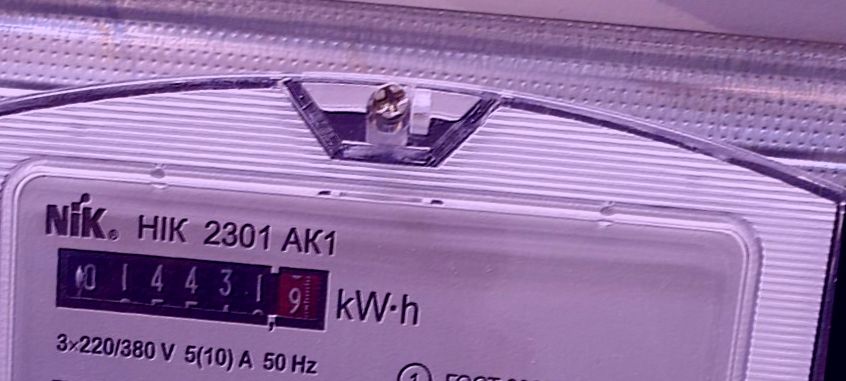0: (78, 258, 102, 294)
1: (115, 258, 137, 293), (251, 271, 268, 304)
3: (215, 266, 238, 300)
4: (146, 259, 171, 294), (181, 261, 203, 297)
9: (284, 283, 305, 316)
screen: (42, 228, 346, 350)
